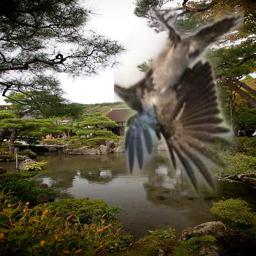Crow: (114, 7, 244, 197)
